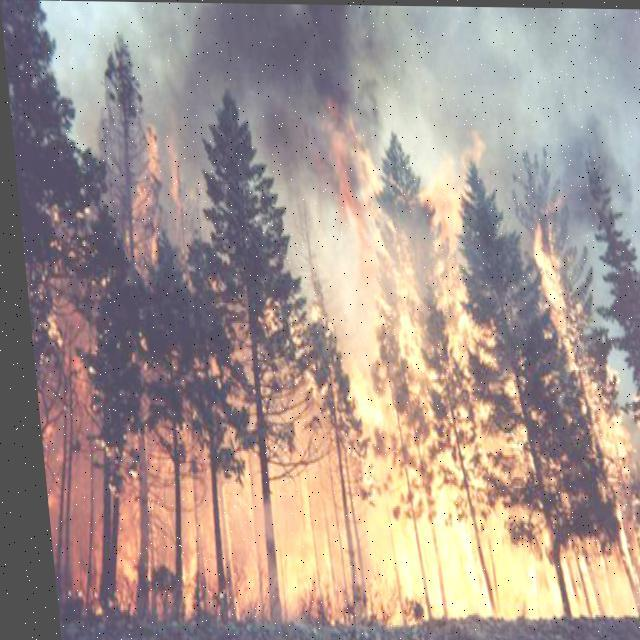Fire: (42, 100, 639, 625)
